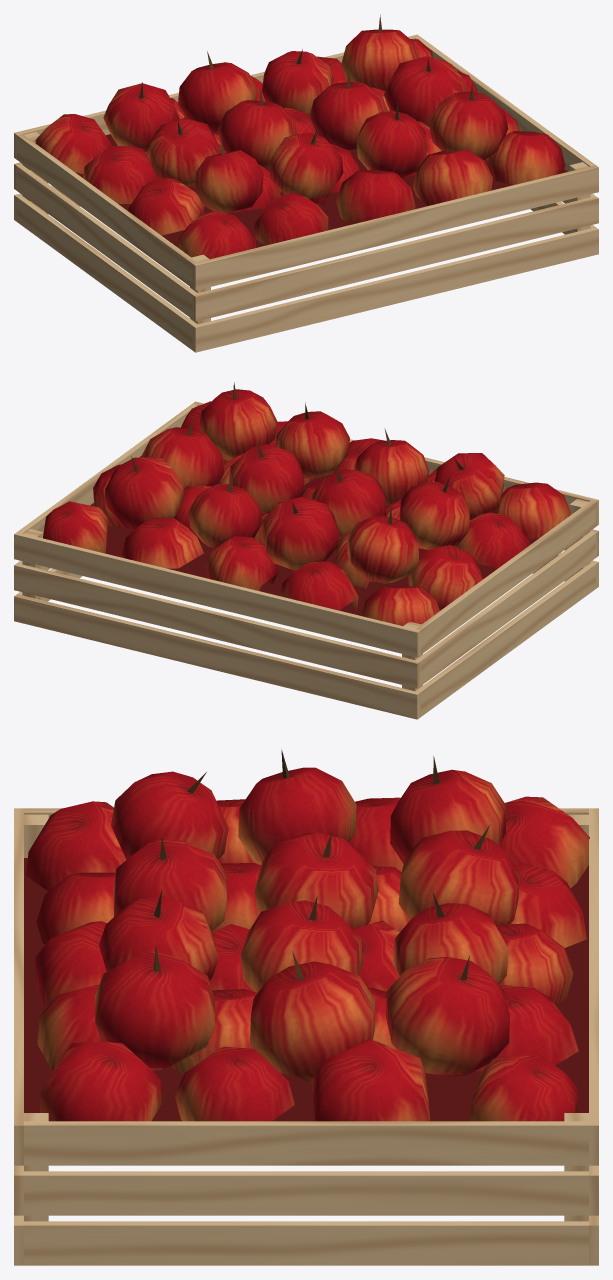
Rendered from Prop_FruitCrateL_Red.fbx.
The picture shows the model from 3 angles, top to bottom: view 1: azimuth 30°, elevation 25°; view 2: azimuth 150°, elevation 25°; view 3: azimuth 270°, elevation 25°; orthographic projection. The views are drawn at different scales.
Visible parts, largest first — view 1: Prop_FruitCrateL_Red_LOD0; view 2: Prop_FruitCrateL_Red_LOD0; view 3: Prop_FruitCrateL_Red_LOD0.
Boxes of the visible parts, bbox=[...] form: Prop_FruitCrateL_Red_LOD0: bbox=[14, 14, 598, 352]; Prop_FruitCrateL_Red_LOD0: bbox=[14, 382, 598, 719]; Prop_FruitCrateL_Red_LOD0: bbox=[14, 750, 598, 1265].
Size of what is drawn, in the model's own units: 1.36 by 0.5137 by 1.06.
1 material, 1 textured.
